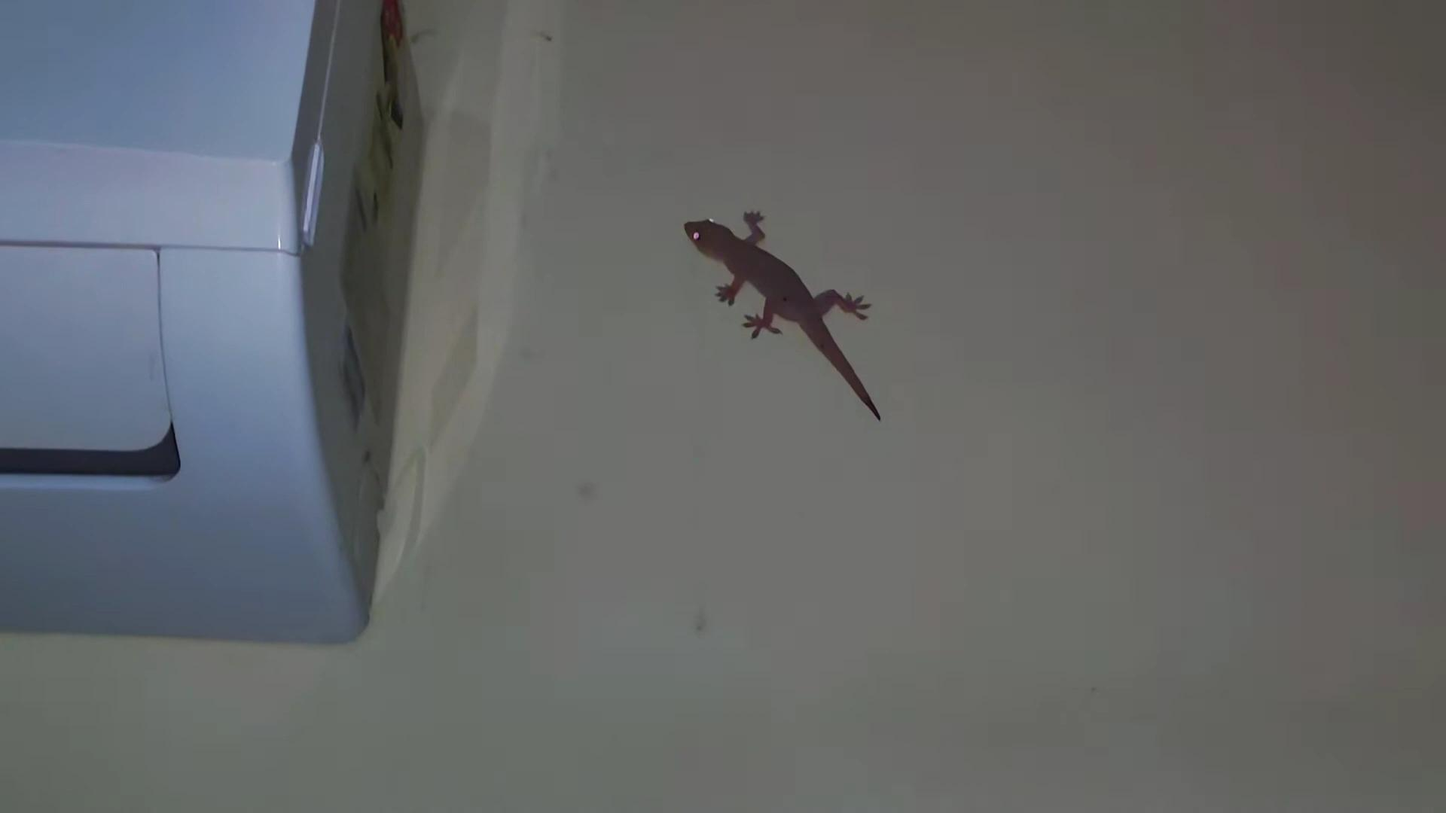lizard: (674, 181, 896, 425)
